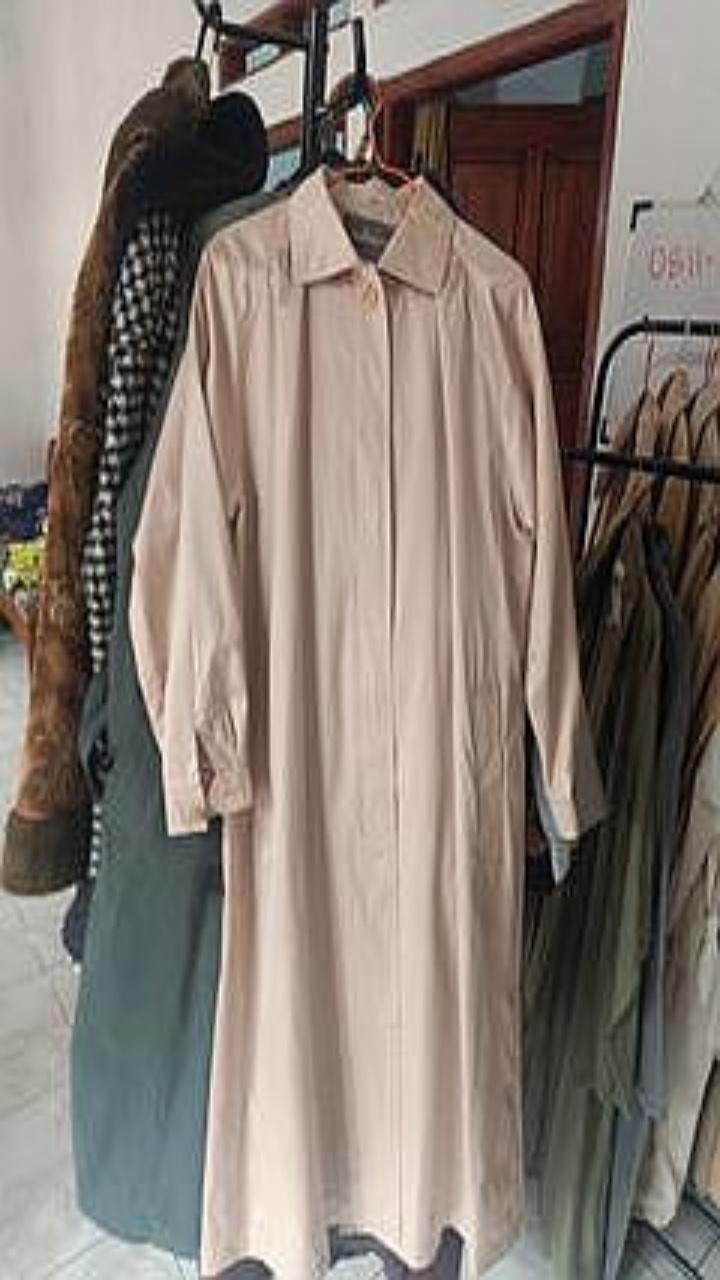Coat: (1, 59, 266, 893)
Dresses: (131, 171, 602, 1279)
